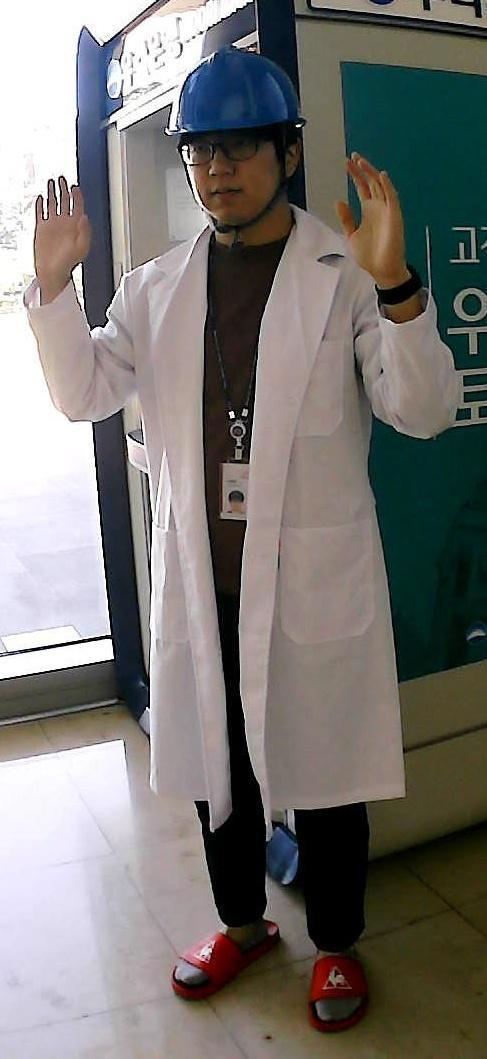lab_coat: (149, 268, 372, 789)
